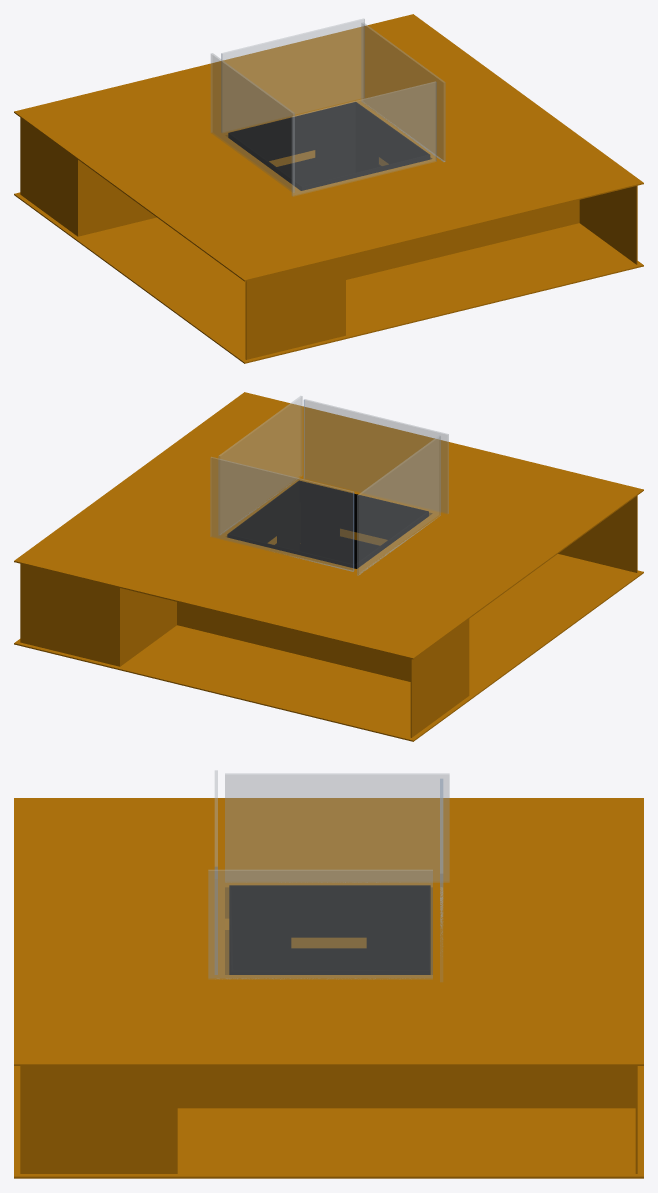
Rendered from firetable.glb.
3 views of the same model, one above another, from view 1: azimuth 30°, elevation 25°; view 2: azimuth 150°, elevation 25°; view 3: azimuth 270°, elevation 25° (orthographic). The views are drawn at different scales.
Parts seen in each view (by area): view 1: Geom3D (×8), Geom3D_coté du foyer (×3); view 2: Geom3D (×8), Geom3D_coté du foyer (×3); view 3: Geom3D (×7), Geom3D_coté du foyer (×2).
Boxes of the visible parts, x1=… form: Geom3D (×8): x1=14, y1=14, x2=643, y2=363; Geom3D_coté du foyer (×3): x1=228, y1=102, x2=430, y2=190; Geom3D (×8): x1=14, y1=392, x2=643, y2=741; Geom3D_coté du foyer (×3): x1=227, y1=480, x2=427, y2=568; Geom3D (×7): x1=14, y1=770, x2=643, y2=1178; Geom3D_coté du foyer (×2): x1=229, y1=885, x2=430, y2=974.
Size of the model in its own units: 1 by 0.4493 by 1.
